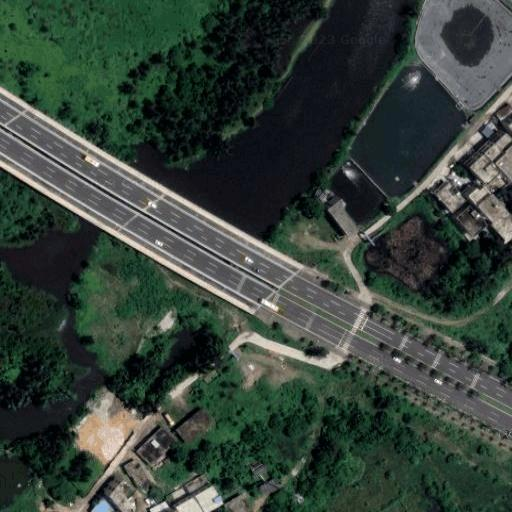building: (319, 197, 360, 241), (138, 426, 177, 466), (431, 177, 470, 216), (175, 408, 215, 446), (452, 201, 490, 239), (464, 150, 501, 187), (245, 474, 281, 507), (475, 193, 505, 223), (194, 485, 224, 512), (124, 458, 150, 489), (109, 488, 140, 512), (480, 136, 507, 163), (490, 210, 512, 242), (244, 458, 270, 484), (493, 149, 512, 180), (485, 172, 509, 196), (466, 183, 490, 207), (144, 494, 172, 512), (174, 496, 203, 512), (495, 103, 512, 125), (477, 123, 496, 142), (90, 498, 115, 512), (496, 129, 512, 146), (505, 138, 512, 153)
